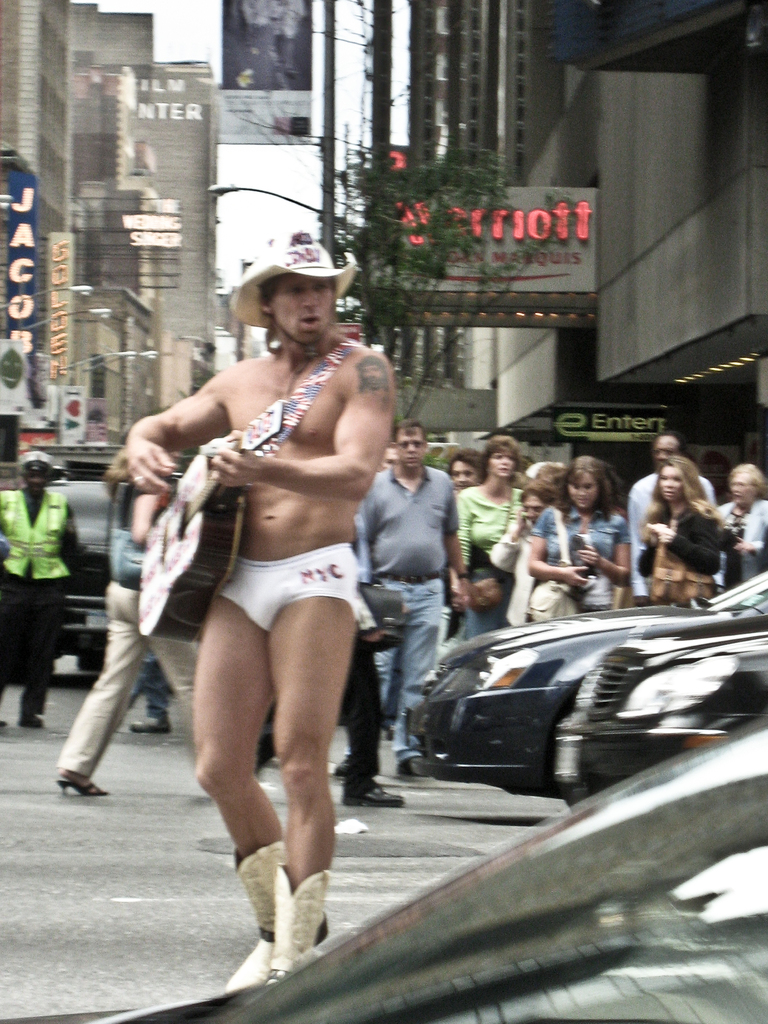Person: (0, 415, 768, 805)
